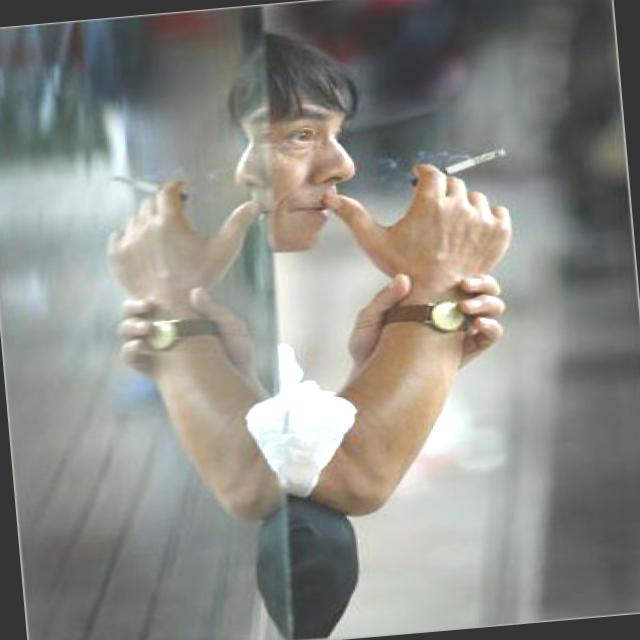cigarette: (407, 145, 502, 195)
